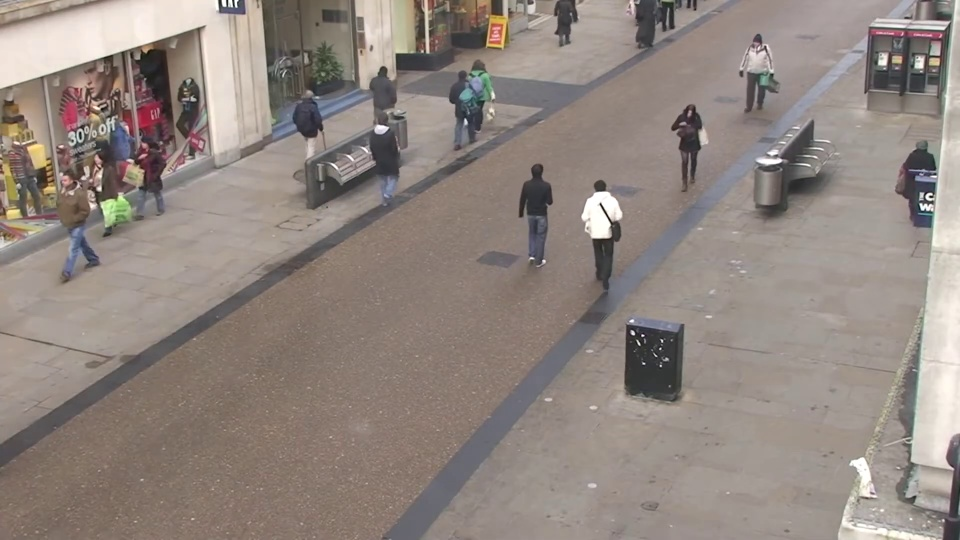pedestrian: (39, 171, 91, 279), (891, 130, 938, 233), (75, 149, 122, 251), (122, 136, 165, 235), (586, 167, 621, 278), (524, 157, 559, 264), (374, 106, 407, 199), (672, 102, 703, 195), (298, 85, 330, 171), (454, 63, 483, 144), (376, 60, 405, 139), (468, 54, 496, 132), (738, 38, 766, 113)
